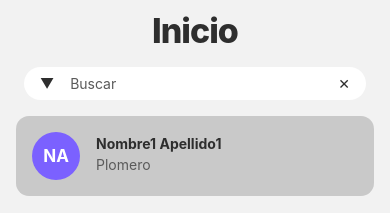
Scenario: InicioScreen › la ✕ limpia la búsqueda
expect the text "Nombre1 Apellido1" is shown: met, box x1=96 y1=135 x2=221 y2=152
Type "plomero" into the field with placeholder "Buscar" at (196,84), box x1=70 y1=75 x2=322 y2=92
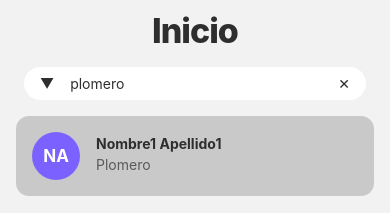
Click the button named "Limpiar búsqueda" at (344,84), box x1=338 y1=75 x2=350 y2=92
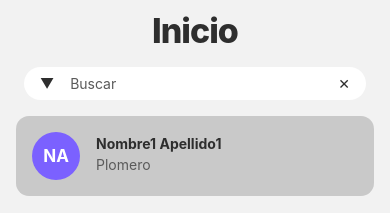
expect the field with placeholder "Buscar" is empty: met, box x1=70 y1=75 x2=322 y2=92
